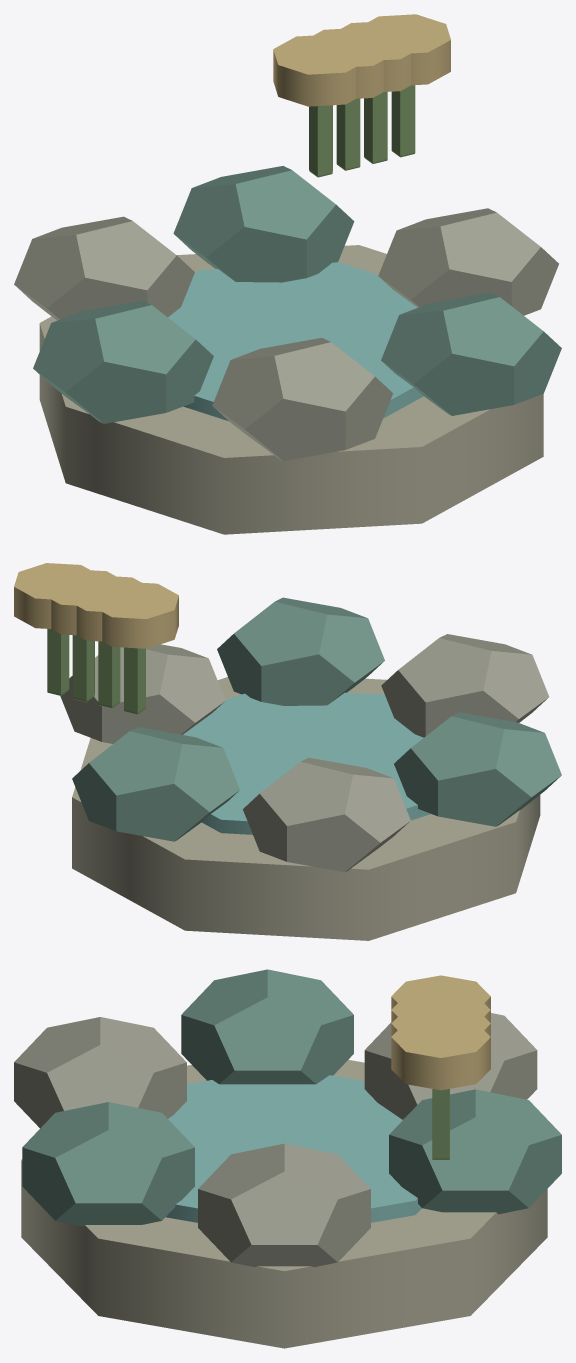
File: riverstones-1.glb
3 renders of one model, top to bottom at view 1: azimuth 30°, elevation 25°; view 2: azimuth 150°, elevation 25°; view 3: azimuth 270°, elevation 25°, orthographic. The views are drawn at different scales.
Parts seen in each view (by area): view 1: riverstones-1-0; view 2: riverstones-1-0; view 3: riverstones-1-0.
Part boxes in pixels (x1,y1,x2,y2): riverstones-1-0: (14,14,561,534); riverstones-1-0: (14,563,561,940); riverstones-1-0: (14,969,561,1348).
Size of the model in its own units: 0.8219 by 0.455 by 0.77.
